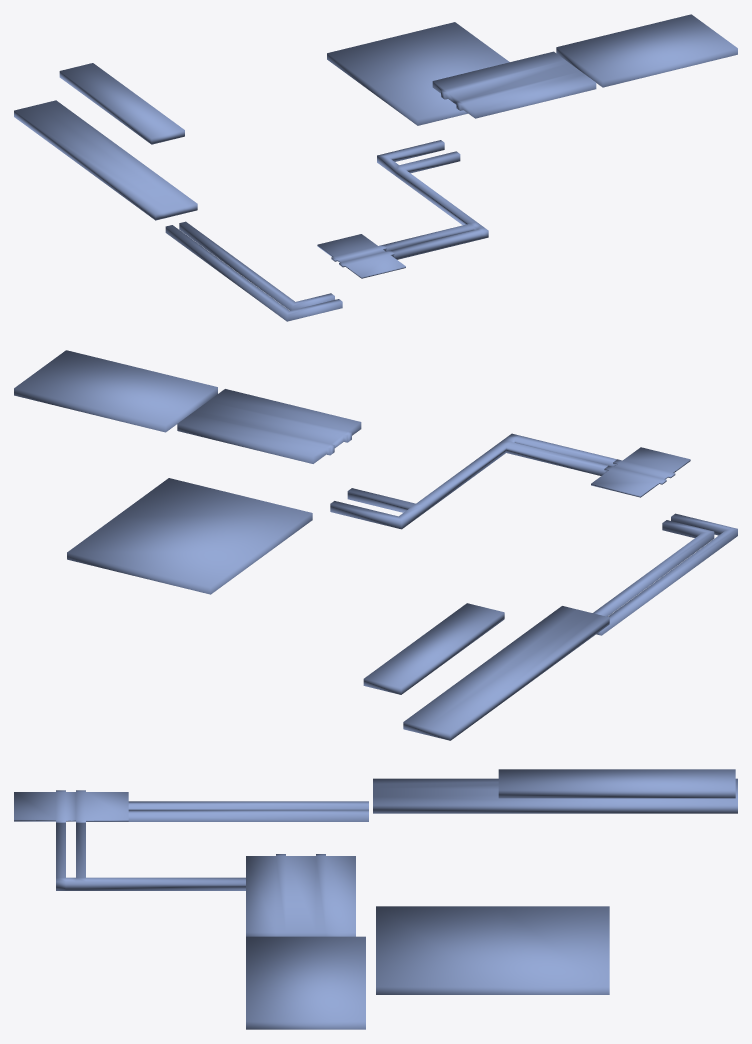
The model's file is Bassin_Menu.fbx.
3 views of the same model, one above another, from view 1: azimuth 30°, elevation 25°; view 2: azimuth 150°, elevation 25°; view 3: azimuth 270°, elevation 25° (orthographic). The views are drawn at different scales.
Visible parts, largest first — view 1: Cube.013; view 2: Cube.013; view 3: Cube.013.
Part boxes in pixels (x1=…): Cube.013: x1=14, y1=14, x2=737, y2=321; Cube.013: x1=14, y1=350, x2=737, y2=740; Cube.013: x1=14, y1=769, x2=737, y2=1029.
Size of the model in its own units: 0.7939 by 0.1303 by 0.7242.
